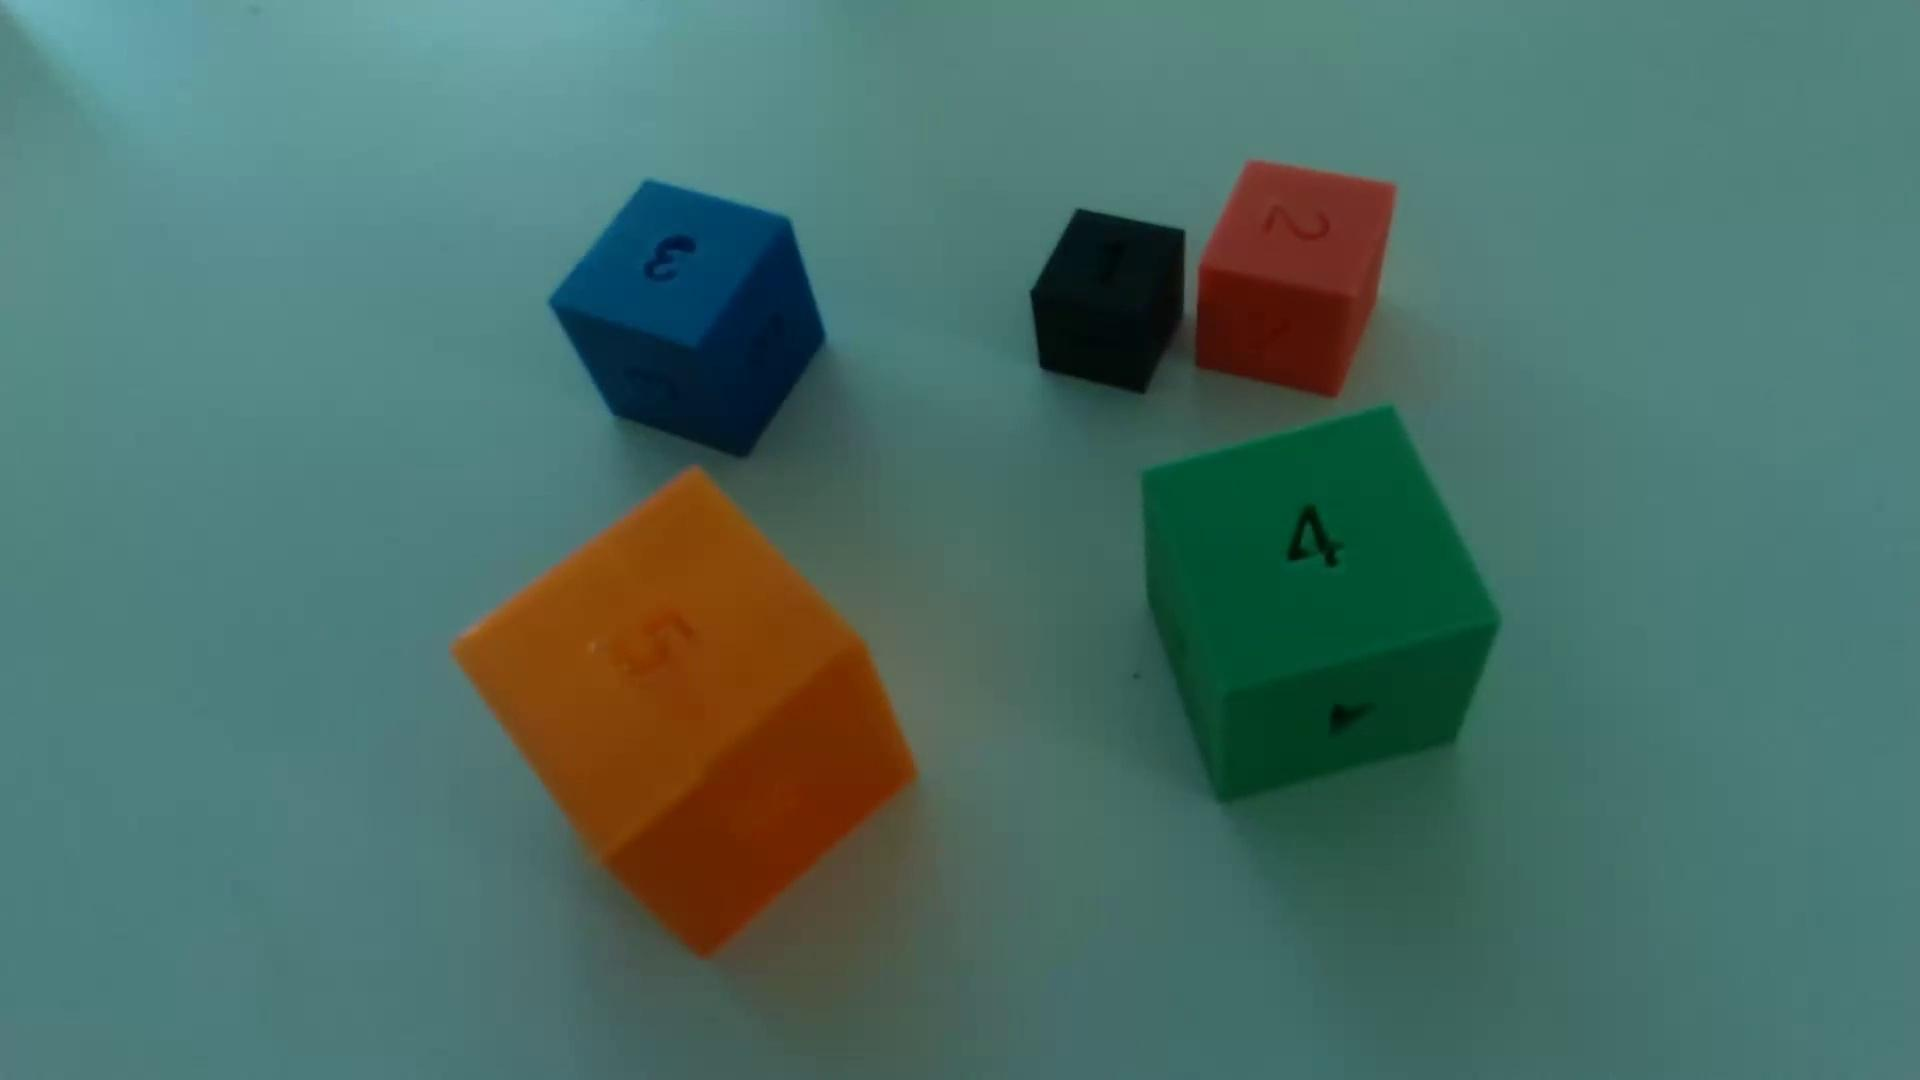black: (1030, 210, 1185, 394)
blue: (550, 182, 825, 458)
green: (1142, 407, 1499, 800)
orange: (454, 471, 914, 956)
red: (1195, 162, 1396, 398)
